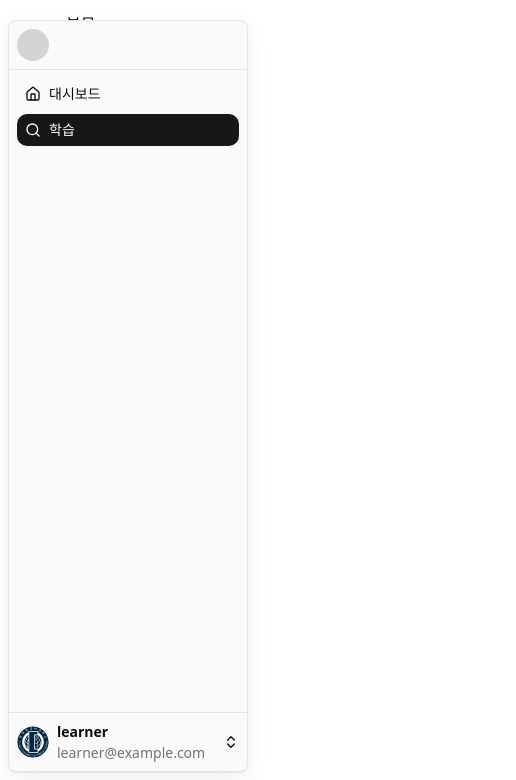
SidebarLayout › 프로필 메뉴를 열면 추가 계정 동작을 표시한다
Click the button with aria-label "프로필 메뉴" at coordinates (128, 742), box [17, 721, 239, 763]
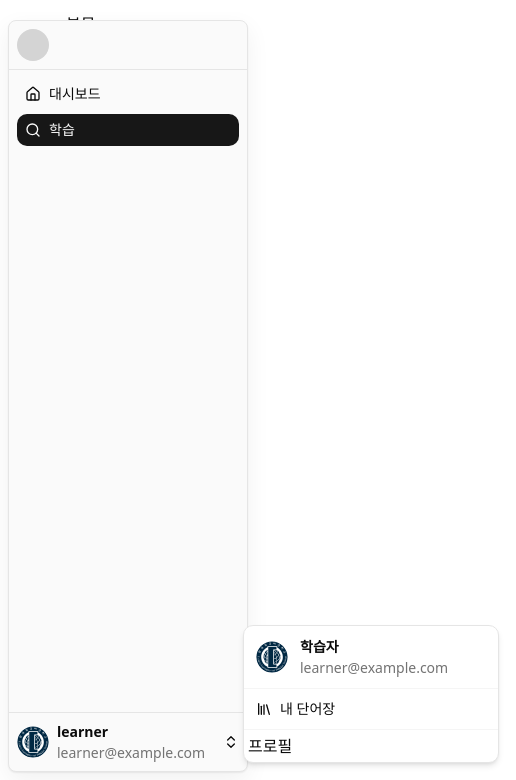
Expected: the button "프로필" is shown, [248, 734, 292, 758]
